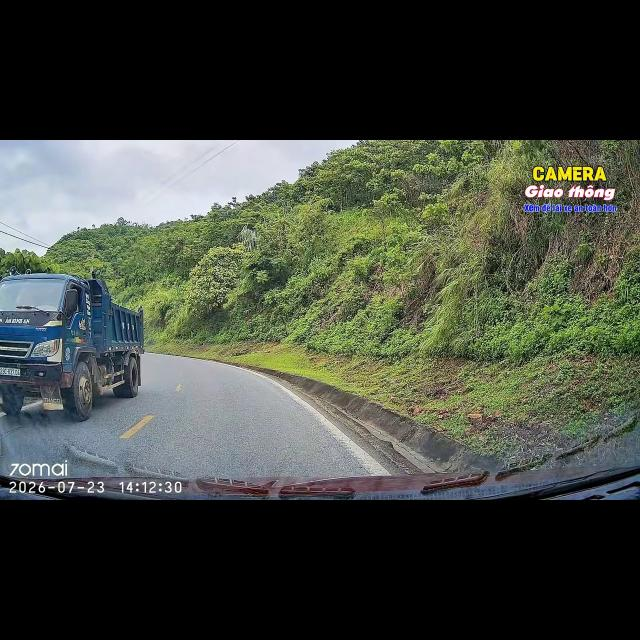truck: (0, 267, 143, 421)
